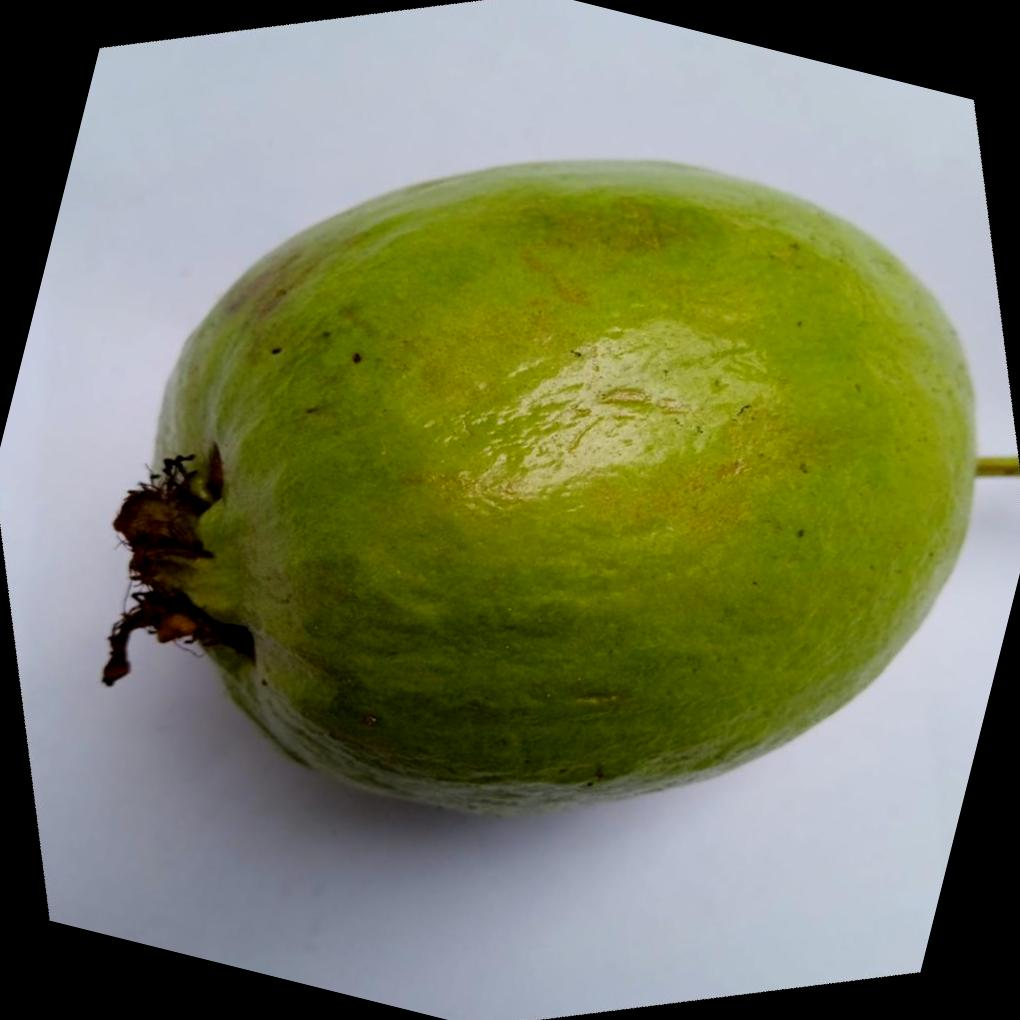FreshGuava: (103, 159, 979, 823)
